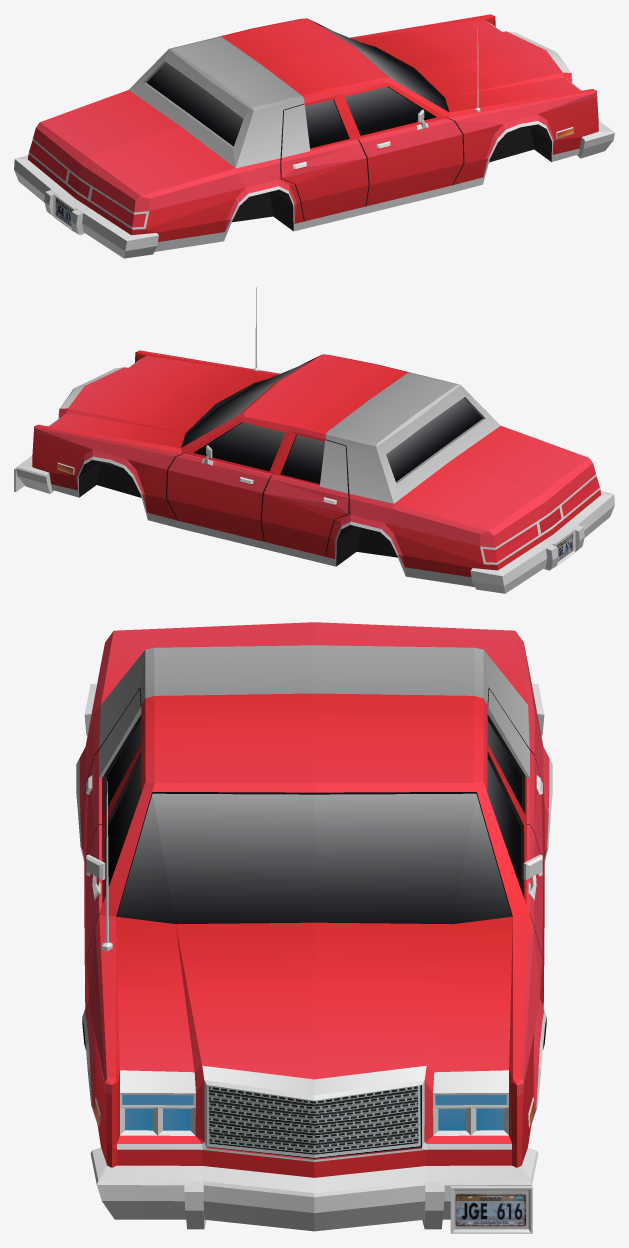
Rendered from Crysler_new_yorker.obj.
3 views of the same model, one above another, from view 1: azimuth 30°, elevation 25°; view 2: azimuth 150°, elevation 25°; view 3: azimuth 270°, elevation 25° (orthographic). The views are drawn at different scales.
Visible parts, largest first — view 1: Crysler_Mesh; view 2: Crysler_Mesh; view 3: Crysler_Mesh.
Boxes of the visible parts, <box> form: Crysler_Mesh: <box>14,14,614,258</box>; Crysler_Mesh: <box>14,287,614,593</box>; Crysler_Mesh: <box>76,622,552,1233</box>.
Size of the model in its own units: 4.94 by 1.48 by 1.99.
Materials: 1 (1 with a texture image).
